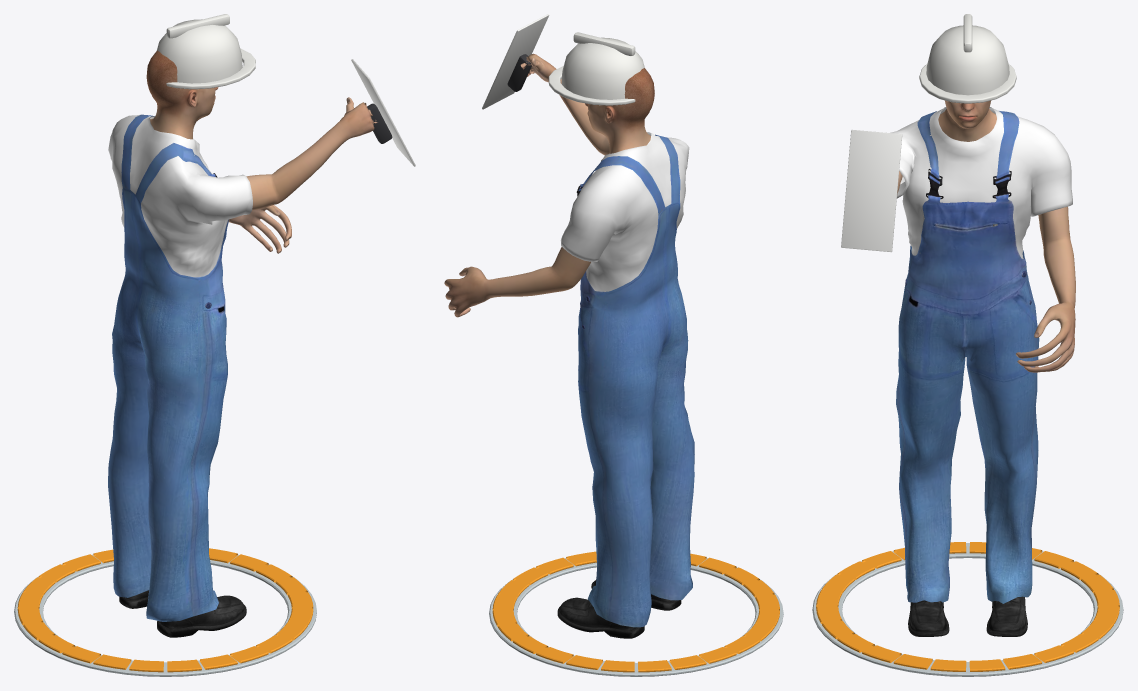
The model's file is MDO-OBR-007.glb.
The picture shows the model from 3 angles, left to right: view 1: azimuth 30°, elevation 25°; view 2: azimuth 150°, elevation 25°; view 3: azimuth 270°, elevation 25°; orthographic projection. The views are drawn at different scales.
Visible parts, largest first — view 1: MDO-OBR-007_pessoa_male_worksuit01, MDO-OBR-007_pessoa, MDO-OBR-007_capacete, MDO-OBR-007_anel_fundo, MDO-OBR-007_pessoa_shoes04, MDO-OBR-007_ferD_chapa, MDO-OBR-007_capacete_aba, MDO-OBR-007_capacete_friso; view 2: MDO-OBR-007_pessoa_male_worksuit01, MDO-OBR-007_pessoa, MDO-OBR-007_capacete, MDO-OBR-007_anel_fundo, MDO-OBR-007_pessoa_shoes04, MDO-OBR-007_ferD_chapa, MDO-OBR-007_capacete_aba, MDO-OBR-007_capacete_friso, MDO-OBR-007_ferD_cabo; view 3: MDO-OBR-007_pessoa_male_worksuit01, MDO-OBR-007_pessoa, MDO-OBR-007_ferD_chapa, MDO-OBR-007_capacete, MDO-OBR-007_anel_fundo, MDO-OBR-007_pessoa_shoes04, MDO-OBR-007_capacete_aba.
Boxes of the visible parts, x1,y1,x2,y2 form: MDO-OBR-007_pessoa_male_worksuit01: (108, 114, 252, 621); MDO-OBR-007_pessoa: (146, 50, 377, 253); MDO-OBR-007_capacete: (156, 19, 242, 83); MDO-OBR-007_anel_fundo: (14, 554, 316, 676); MDO-OBR-007_pessoa_shoes04: (119, 590, 246, 637); MDO-OBR-007_ferD_chapa: (351, 59, 415, 166); MDO-OBR-007_capacete_aba: (166, 48, 255, 89); MDO-OBR-007_capacete_friso: (166, 14, 229, 38); MDO-OBR-007_pessoa_male_worksuit01: (560, 132, 694, 627); MDO-OBR-007_pessoa: (444, 53, 654, 317); MDO-OBR-007_capacete: (561, 37, 644, 99); MDO-OBR-007_anel_fundo: (489, 558, 783, 676); MDO-OBR-007_pessoa_shoes04: (557, 579, 681, 638); MDO-OBR-007_ferD_chapa: (482, 14, 549, 109); MDO-OBR-007_capacete_aba: (548, 66, 635, 105); MDO-OBR-007_capacete_friso: (573, 32, 635, 56); MDO-OBR-007_ferD_cabo: (507, 54, 531, 91); MDO-OBR-007_pessoa_male_worksuit01: (890, 107, 1072, 603); MDO-OBR-007_pessoa: (897, 100, 1075, 372); MDO-OBR-007_ferD_chapa: (841, 129, 902, 252); MDO-OBR-007_capacete: (926, 25, 1009, 95); MDO-OBR-007_anel_fundo: (812, 543, 1123, 676); MDO-OBR-007_pessoa_shoes04: (908, 596, 1027, 636); MDO-OBR-007_capacete_aba: (919, 63, 1016, 103).
Size of the model in its own units: 1.05 by 1.79 by 0.84.
Materials: 10 (5 with a texture image).
